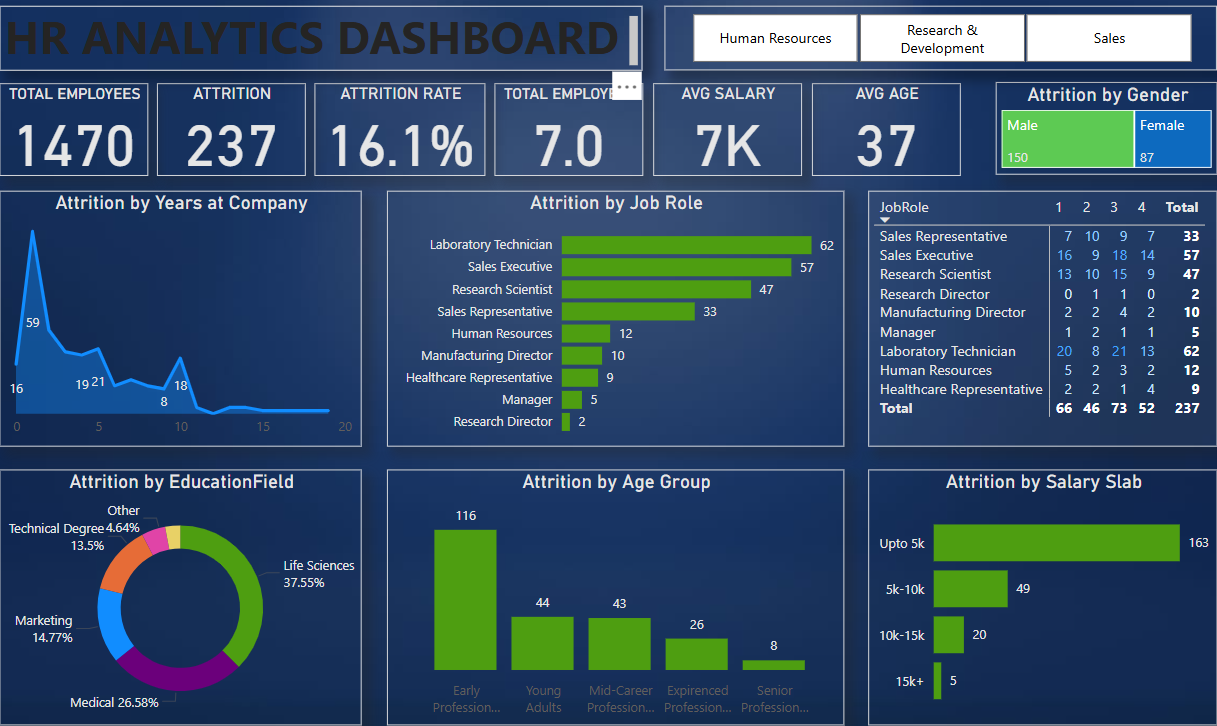

What the dashboard file says about the page in this screenshot:
{"tool":"powerbi","page":{"name":"Page 1","canvas":[1280,720],"ordinal":0},"visuals":[{"type":"card","title":"    TOTAL EMPLOYEES","fields":{"Values":["Count(hr real data set.EmpID)"]},"box":[68.7,80.9,140,87.1],"z":0},{"type":"card","title":" ATTRITION","fields":{"Values":["Sum(hr real data set.Attritioncount)"]},"box":[216.9,80.9,140,87.1],"z":1000},{"type":"card","title":"ATTRITION RATE","fields":{"Values":["hr real data set.Attrition_rate"]},"box":[365.2,80.9,161.2,87.1],"z":2000},{"type":"card","title":"    TOTAL EMPLOYEES","fields":{"Values":["Avg(hr real data set.YearsAtCompany)"]},"box":[534.6,80.9,140,87.1],"z":3000},{"type":"card","title":"AVG SALARY","fields":{"Values":["Avg(hr real data set.MonthlyIncome)"]},"box":[684,80.9,140,87.1],"z":4000},{"type":"card","title":"  AVG   AGE","fields":{"Values":["Avg(hr real data set.Age)"]},"box":[833.4,80.9,140,87.1],"z":5000},{"type":"donutChart","title":" Attrition by EducationField","fields":{"Category":["hr real data set.EducationField"],"Y":["Sum(hr real data set.Attritioncount)"]},"box":[68.7,445.2,341.2,241.2],"z":6000},{"type":"clusteredColumnChart","title":" Attrition by Age Group","fields":{"Y":["Sum(hr real data set.Attritioncount)"],"Category":["hr real data set.AgeGroup"]},"box":[433.4,445.2,430.6,241.2],"z":7000},{"type":"pivotTable","fields":{"Rows":["hr real data set.JobRole"],"Columns":["hr real data set.JobSatisfaction"],"Values":["Sum(hr real data set.Attritioncount)"]},"box":[886.4,182.8,329.4,241.2],"z":8000},{"type":"clusteredBarChart","title":" Attrition by Salary  Slab","fields":{"Y":["Sum(hr real data set.Attritioncount)"],"Category":["hr real data set.SalarySlab"]},"box":[886.4,445.2,329.4,241.2],"z":9000},{"type":"clusteredBarChart","title":" Attrition by Job Role","fields":{"Category":["hr real data set.JobRole"],"Y":["Sum(hr real data set.Attritioncount)"]},"box":[433.4,182.8,430.6,241.2],"z":10000},{"type":"stackedAreaChart","title":" Attrition by Years at Company","fields":{"Category":["hr real data set.YearsAtCompany"],"Y":["Sum(hr real data set.Attritioncount)"]},"box":[68.7,182.8,341.2,241.2],"z":11000},{"type":"treemap","title":" Attrition by Gender","fields":{"Group":["hr real data set.Gender"],"Values":["Sum(hr real data set.Attritioncount)"]},"box":[1006.4,80.5,209.4,87.1],"z":12000},{"type":"slicer","fields":{"Values":["hr real data set.Department"]},"box":[694.1,8.2,521.2,61.2],"z":13000},{"type":"textbox","box":[68.2,8.2,605.9,61.2],"z":14000}]}

Visuals, with their boxes on the page's 1280x720 design canvas (x1, y1, x2, y2). These are canvas units, not pixel positions in the 1217x726 screenshot, which may show the page scaled, cropped or inside an application window:
"    TOTAL EMPLOYEES" card: [69,81,209,168]
" ATTRITION" card: [217,81,357,168]
"ATTRITION RATE" card: [365,81,526,168]
"    TOTAL EMPLOYEES" card: [535,81,675,168]
"AVG SALARY" card: [684,81,824,168]
"  AVG   AGE" card: [833,81,973,168]
" Attrition by EducationField" donutChart: [69,445,410,686]
" Attrition by Age Group" clusteredColumnChart: [433,445,864,686]
pivotTable - hr real data set.JobRole x hr real data set.JobSatisfaction: [886,183,1216,424]
" Attrition by Salary  Slab" clusteredBarChart: [886,445,1216,686]
" Attrition by Job Role" clusteredBarChart: [433,183,864,424]
" Attrition by Years at Company" stackedAreaChart: [69,183,410,424]
" Attrition by Gender" treemap: [1006,80,1216,168]
slicer - hr real data set.Department: [694,8,1215,69]
textbox: [68,8,674,69]
